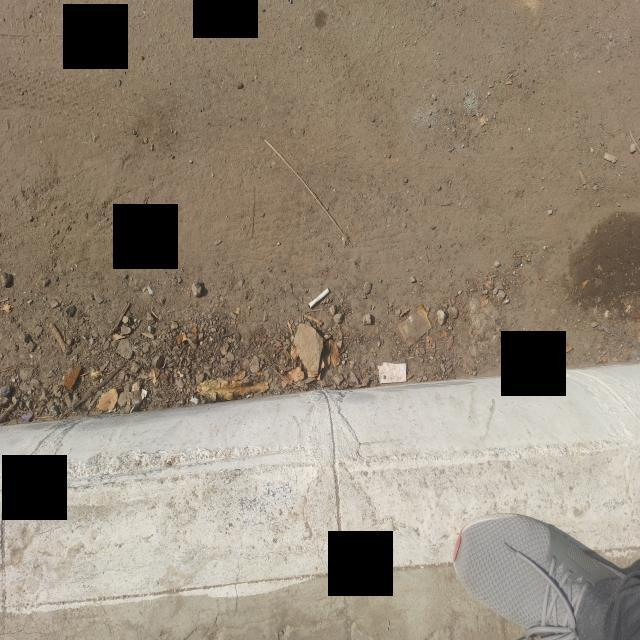Background: (0, 0, 640, 638)
Cig_bud: (308, 288, 330, 309), (604, 152, 617, 163)
Plastic_wraper: (398, 305, 431, 347)
